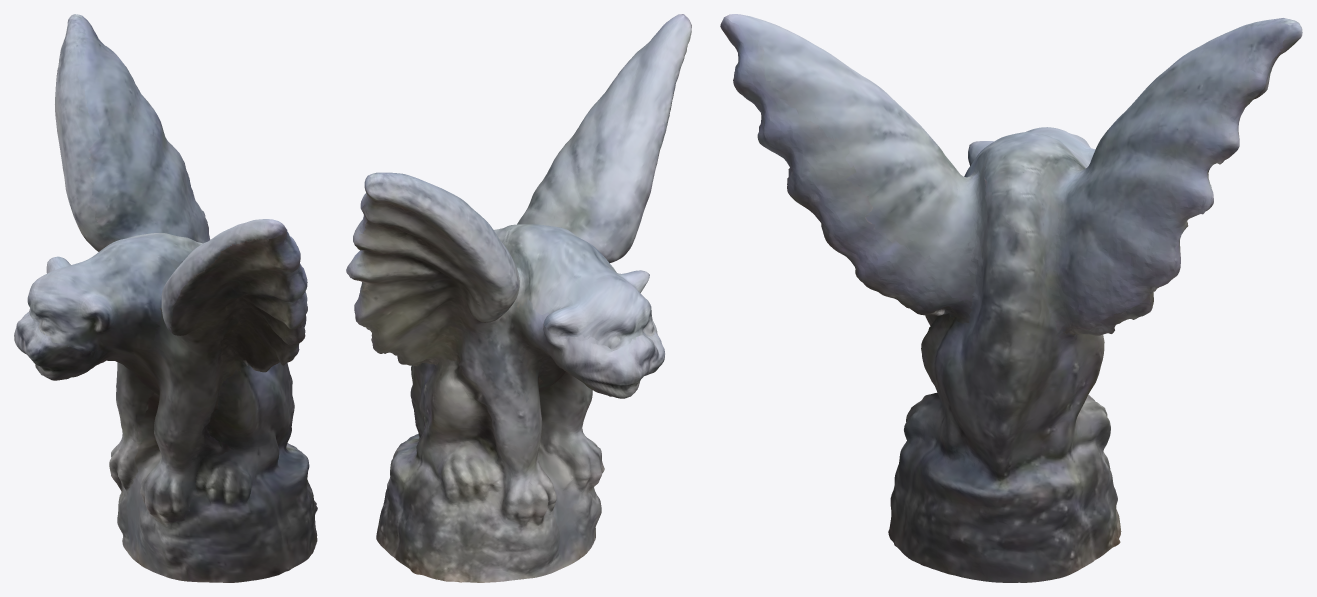
Rendered from gargoyle_statue_photogrammetry.glb.
3 renders of one model, left to right at view 1: azimuth 30°, elevation 25°; view 2: azimuth 150°, elevation 25°; view 3: azimuth 270°, elevation 25°, orthographic. The views are drawn at different scales.
Parts seen in each view (by area): view 1: Object_2; view 2: Object_2; view 3: Object_2.
Part boxes in pixels (x1,y1,x2,y2): Object_2: (14,14,317,582); Object_2: (346,14,691,582); Object_2: (720,14,1302,582).
Bounding box in the file's own units: 1.81 × 2.82 × 2.97.
Materials: 1 (1 with a texture image).
